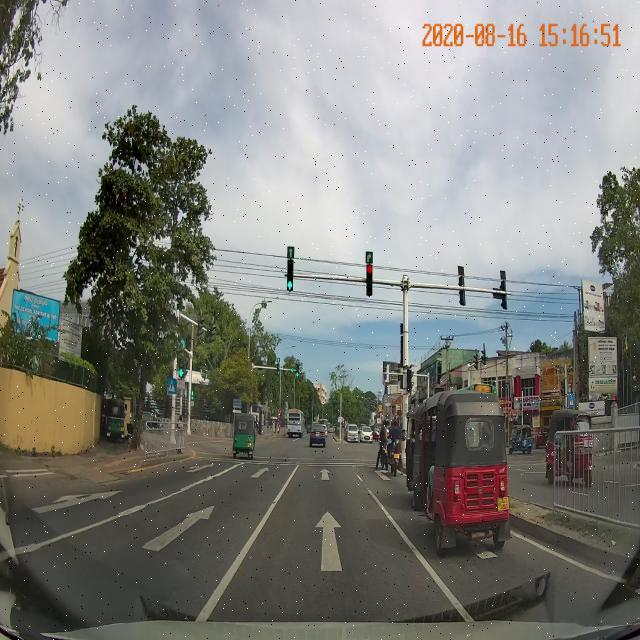forward: (214, 500, 444, 579), (279, 466, 369, 483)
